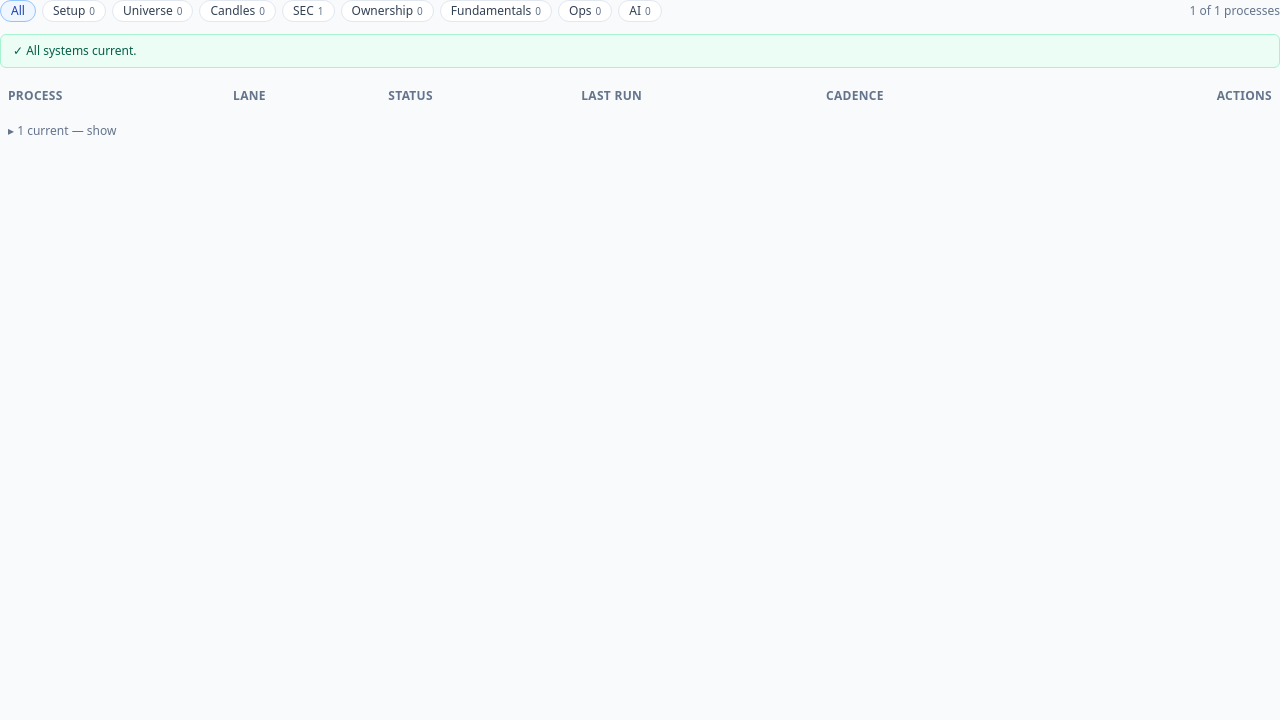
Test: admin a11y — confirm modals › Cancel confirm dialog (collapsed disclosure) has no axe violations
Click the button "▸ 1 current — show".
click(62, 131)  # box [8,123,116,139]
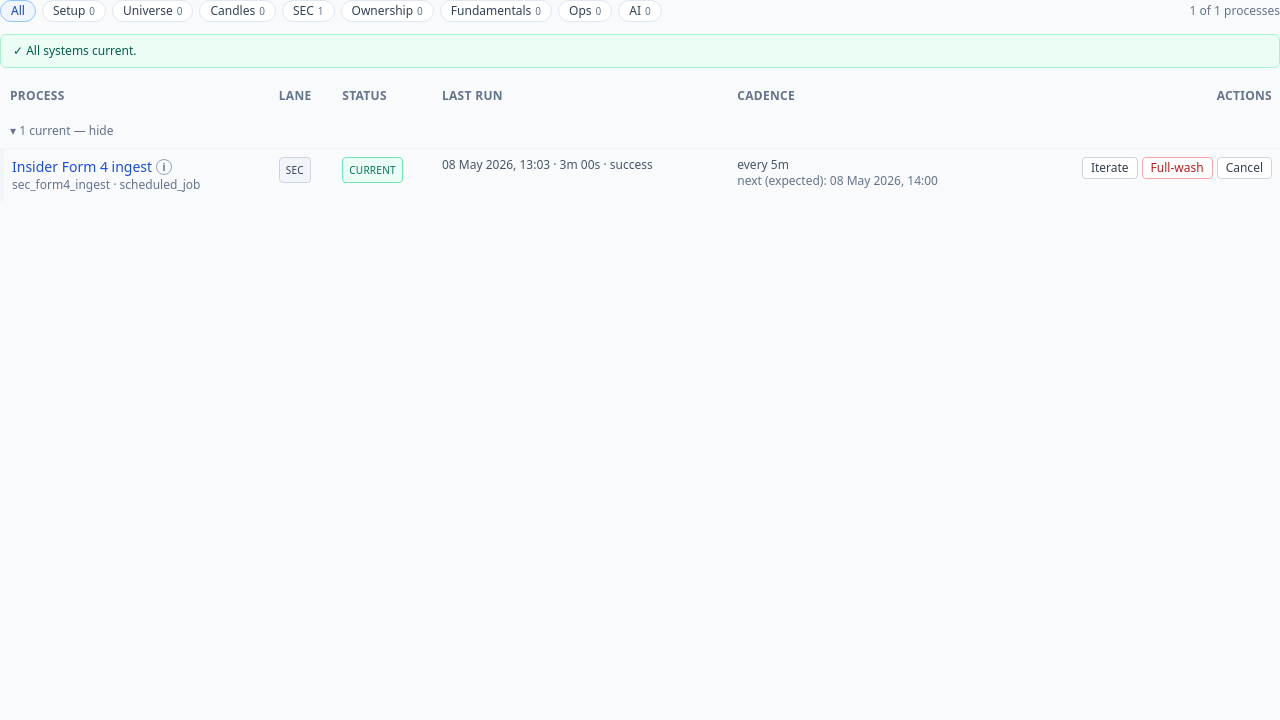
Click the button "Cancel".
click(1244, 168)  # box [1217,157,1272,179]
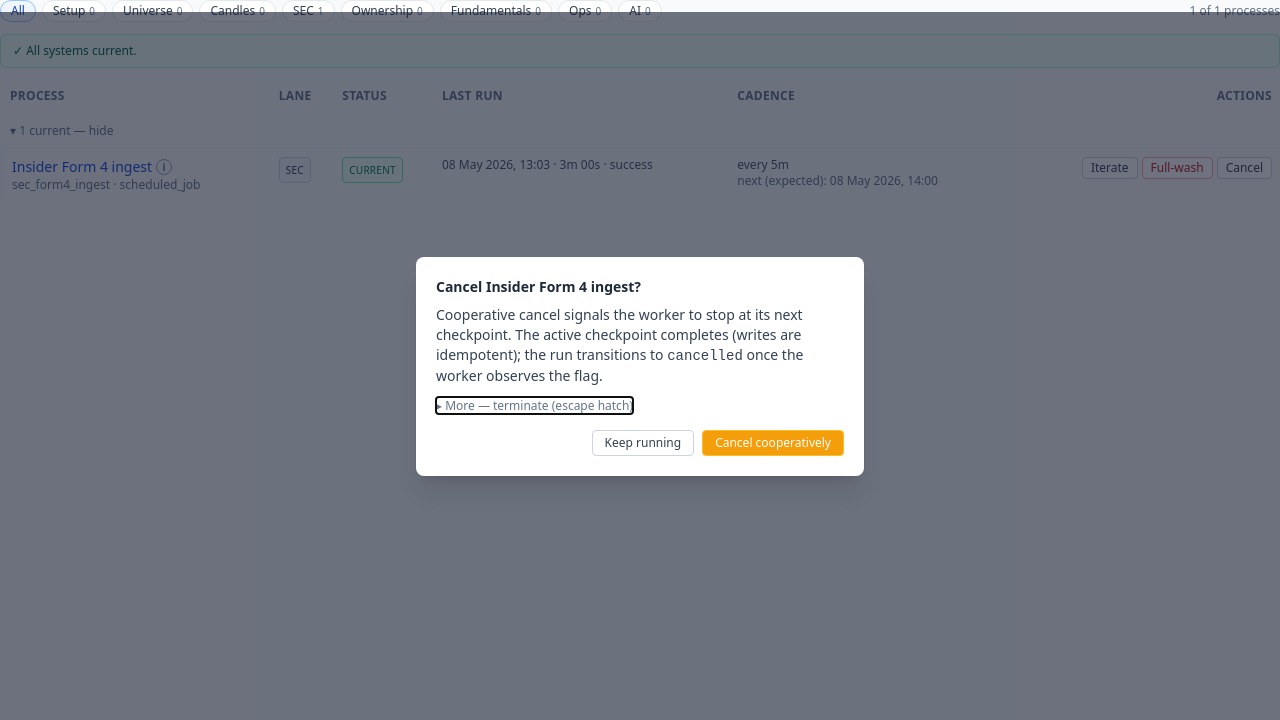
Expected: the dialog is shown, [416,256,864,476]
